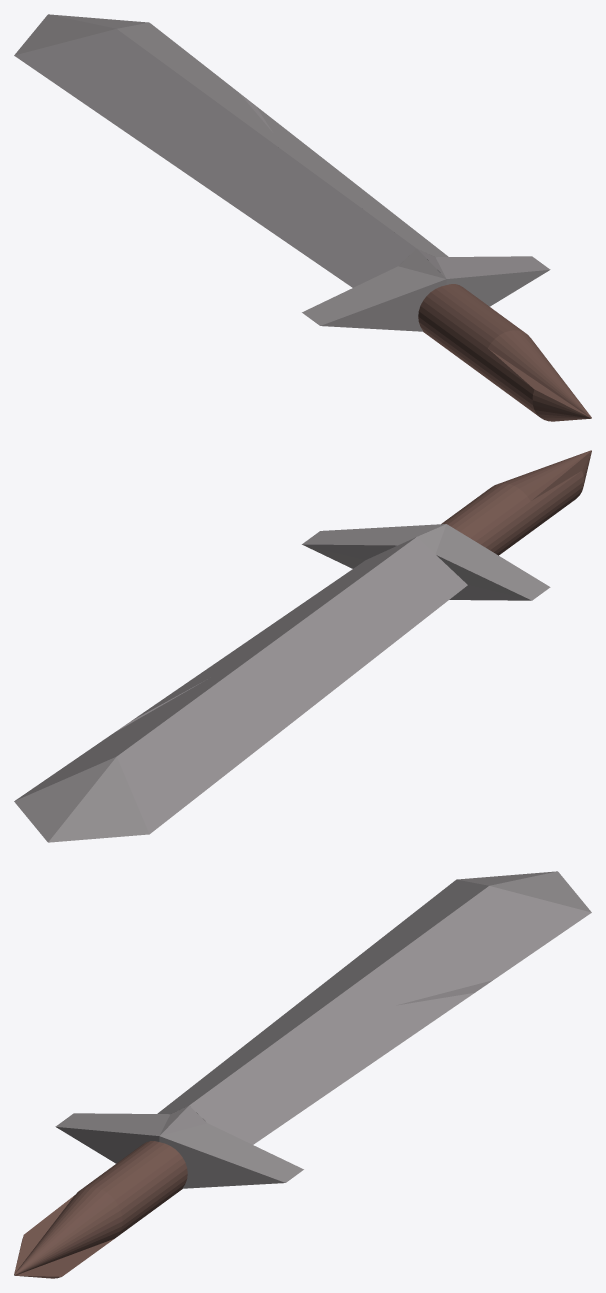
The model's file is Sword.glb.
The picture shows the model from 3 angles, top to bottom: view 1: azimuth 30°, elevation 25°; view 2: azimuth 150°, elevation 25°; view 3: azimuth 330°, elevation 25°; orthographic projection.
Parts seen in each view (by area): view 1: Plane; view 2: Plane; view 3: Plane.
Part boxes in pixels (bbox=[...]): Plane: bbox=[14, 14, 591, 421]; Plane: bbox=[14, 450, 591, 842]; Plane: bbox=[14, 871, 591, 1278].
Bounding box in the file's own units: 1.87 × 0.5551 × 7.63.
